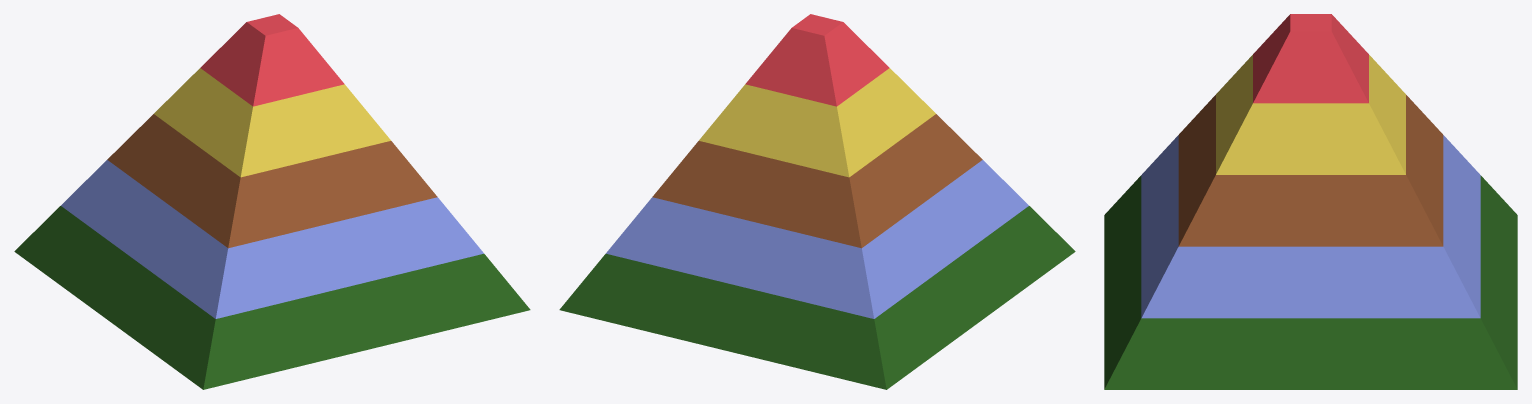
Rendered from triangleProp.fbx.
3 views of the same model, side by side, from view 1: azimuth 30°, elevation 25°; view 2: azimuth 150°, elevation 25°; view 3: azimuth 270°, elevation 25° (orthographic). The views are drawn at different scales.
Parts seen in each view (by area): view 1: Triangle Prop; view 2: Triangle Prop; view 3: Triangle Prop.
Part boxes in pixels (box(x1,y1,x2,y2)): Triangle Prop: box(14, 14, 530, 389); Triangle Prop: box(559, 14, 1075, 389); Triangle Prop: box(1104, 14, 1517, 389).
Bounding box in the file's own units: 433 × 433 × 323.
